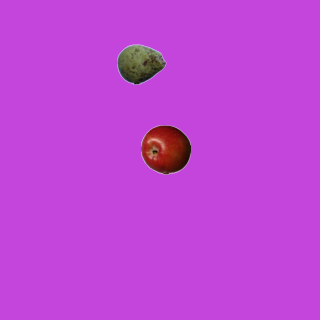Apple Braeburn: (140, 124, 190, 174)
Pear Stone: (116, 39, 166, 89)
